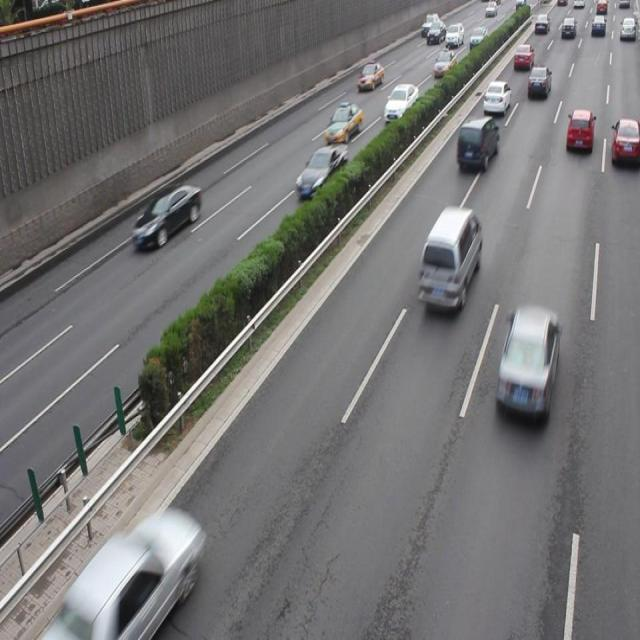car: (44, 506, 203, 640), (494, 302, 560, 423), (134, 184, 201, 250), (296, 142, 348, 200), (455, 114, 498, 170), (324, 101, 363, 144), (609, 118, 640, 170), (564, 107, 593, 157), (383, 82, 417, 124)
truck: (418, 203, 481, 310)
